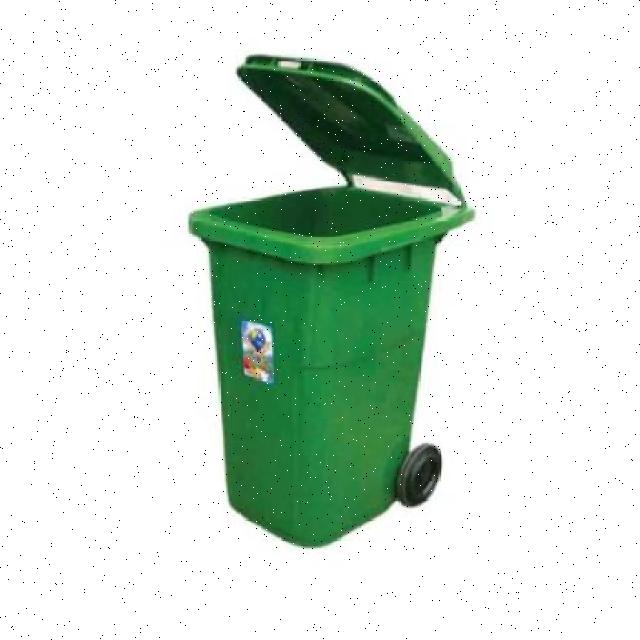garbage container: (168, 172, 482, 560)
